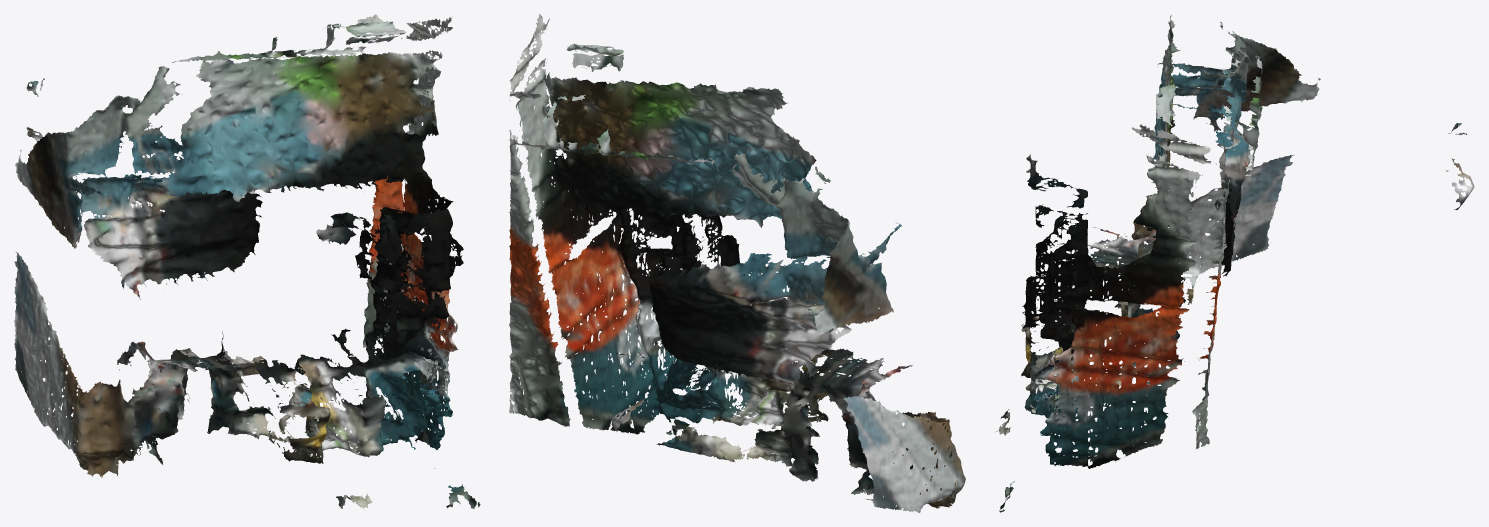
The model's file is color_model_f002_20251226_165907.obj.
The picture shows the model from 3 angles, left to right: view 1: azimuth 30°, elevation 25°; view 2: azimuth 150°, elevation 25°; view 3: azimuth 270°, elevation 25°; orthographic projection. The views are drawn at different scales.
Size of the model in its own units: 2.33 by 2.48 by 2.63.
